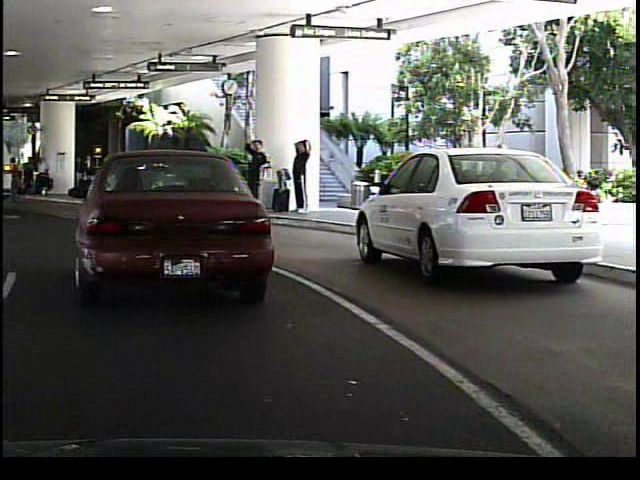person: (240, 132, 267, 213), (288, 133, 311, 215), (295, 147, 317, 211), (133, 155, 150, 195)
